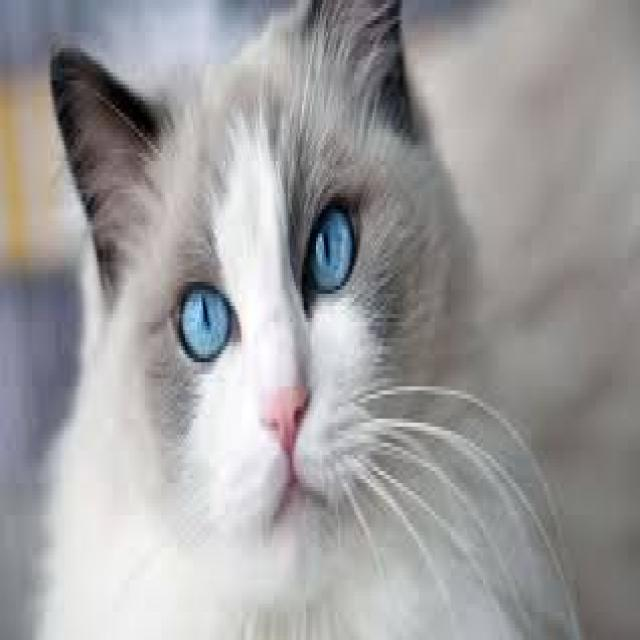Cat: (22, 1, 554, 640)
